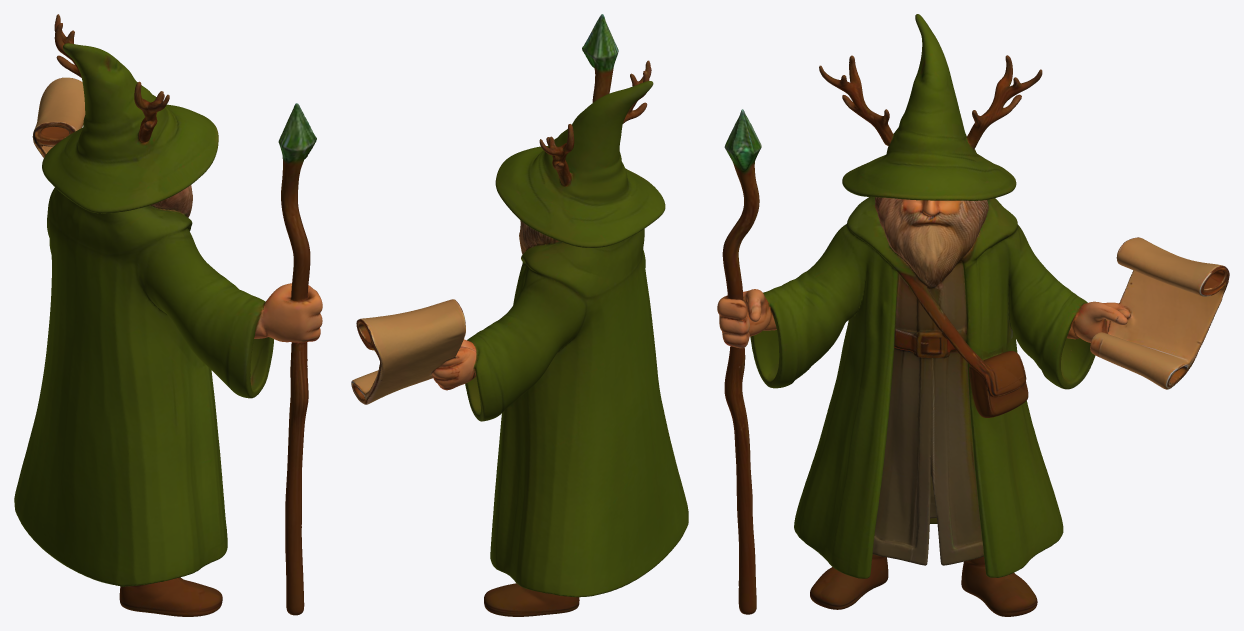
The picture shows the model from 3 angles, left to right: view 1: azimuth 30°, elevation 25°; view 2: azimuth 150°, elevation 25°; view 3: azimuth 270°, elevation 25°; orthographic projection. The views are drawn at different scales.
Parts seen in each view (by area): view 1: tripo_node_f7ac719f-af61-4605-af65-0eb7f9caebca; view 2: tripo_node_f7ac719f-af61-4605-af65-0eb7f9caebca; view 3: tripo_node_f7ac719f-af61-4605-af65-0eb7f9caebca.
Boxes of the visible parts, x1,y1,x2,y2 form: tripo_node_f7ac719f-af61-4605-af65-0eb7f9caebca: (14,14,322,616); tripo_node_f7ac719f-af61-4605-af65-0eb7f9caebca: (351,14,688,616); tripo_node_f7ac719f-af61-4605-af65-0eb7f9caebca: (717,14,1229,616).
Bounding box in the file's own units: 0.3735 × 1 × 0.8521.
Materials: 1 (1 with a texture image).
